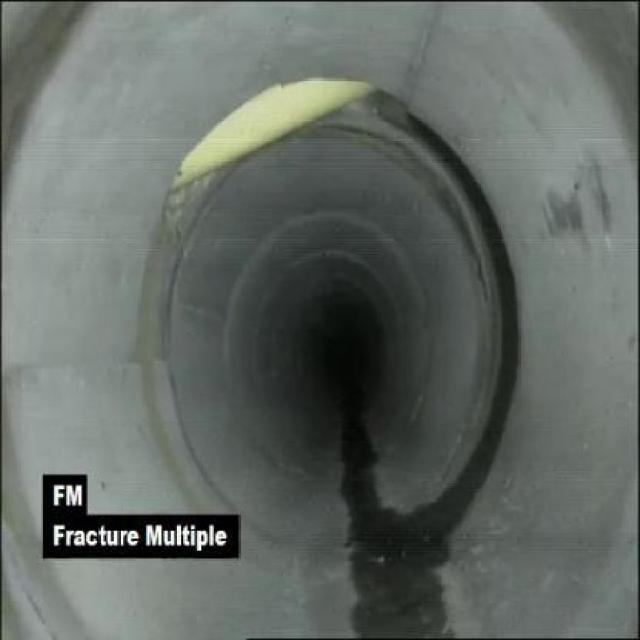Utility intrusion: (162, 73, 382, 198)
